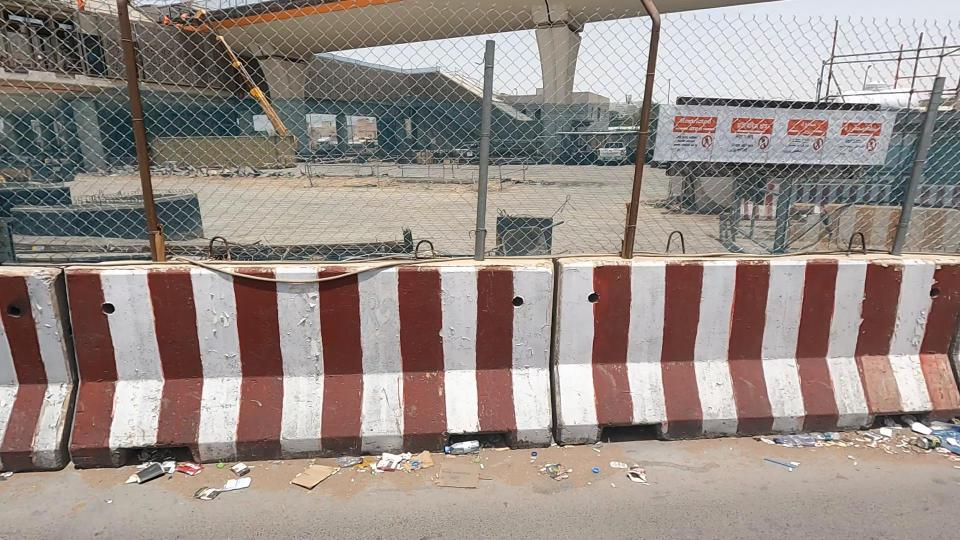CONSTRUCTION_ROAD: (275, 147, 960, 515), (0, 173, 534, 494)
GARBAGE: (372, 390, 739, 521), (186, 404, 545, 535), (40, 412, 321, 528), (697, 386, 888, 492), (805, 367, 960, 486)
